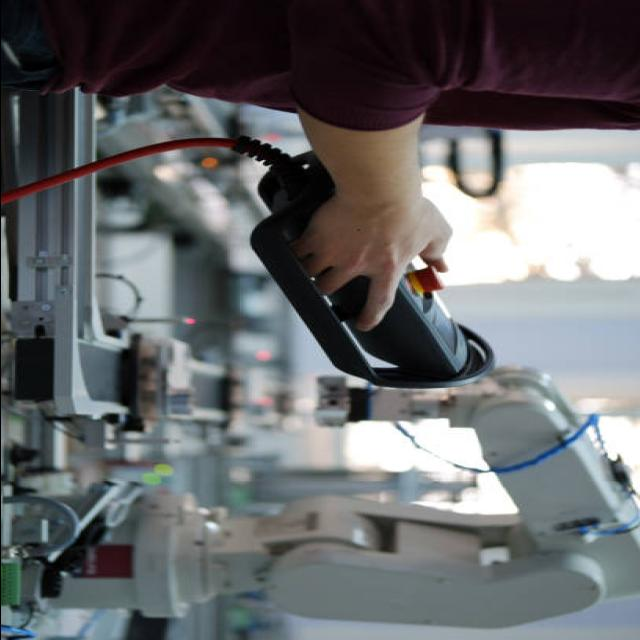Robotic-arm: (58, 367, 640, 632)
